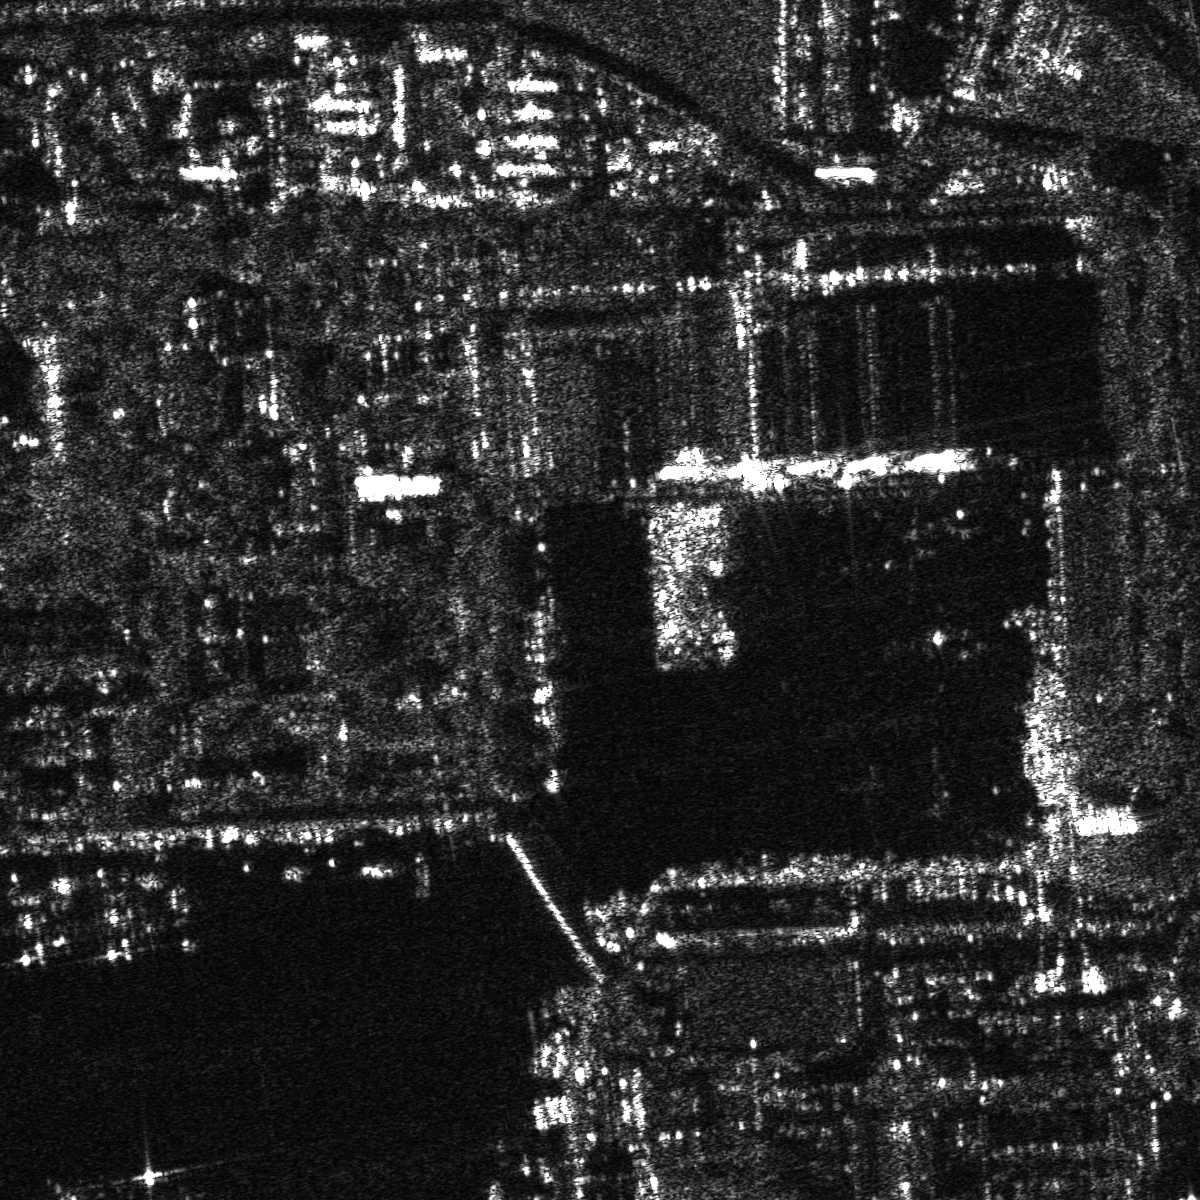ARJ21: (141, 874, 232, 956)
other: (78, 886, 143, 969)
